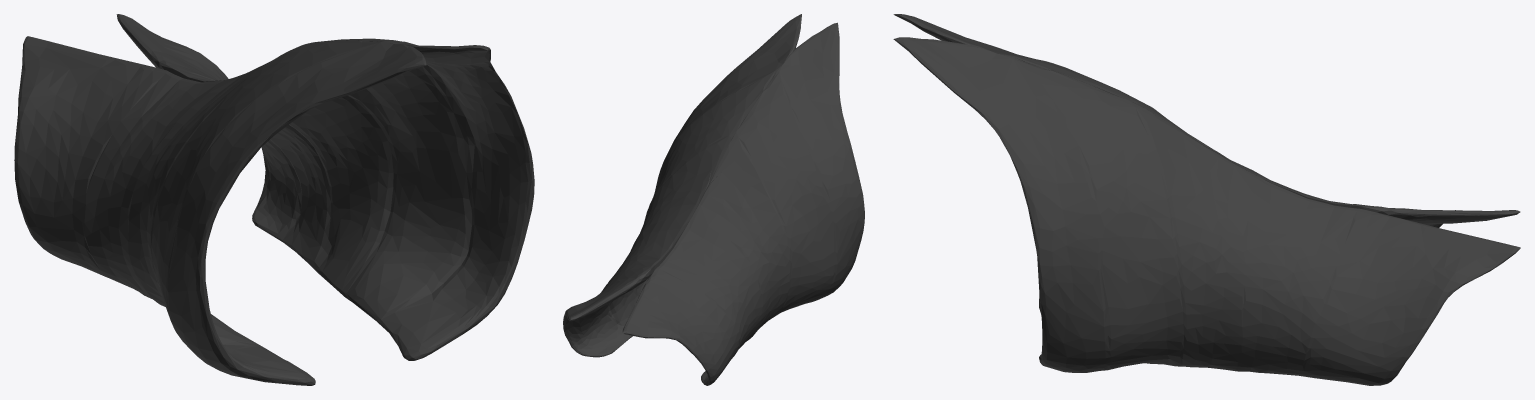
Rendered from m_transversus_abdominis.glb.
The picture shows the model from 3 angles, left to right: view 1: azimuth 30°, elevation 25°; view 2: azimuth 150°, elevation 25°; view 3: azimuth 270°, elevation 25°; orthographic projection. The views are drawn at different scales.
Visible parts, largest first — view 1: m_transversus_abdominis; view 2: m_transversus_abdominis; view 3: m_transversus_abdominis.
Boxes of the visible parts, x1,y1,x2,y2 form: m_transversus_abdominis: (14, 14, 534, 385); m_transversus_abdominis: (563, 14, 864, 385); m_transversus_abdominis: (893, 14, 1520, 385).
Size of the model in its own units: 0.00422 by 0.00472 by 0.00835.
1 material, 1 textured.
